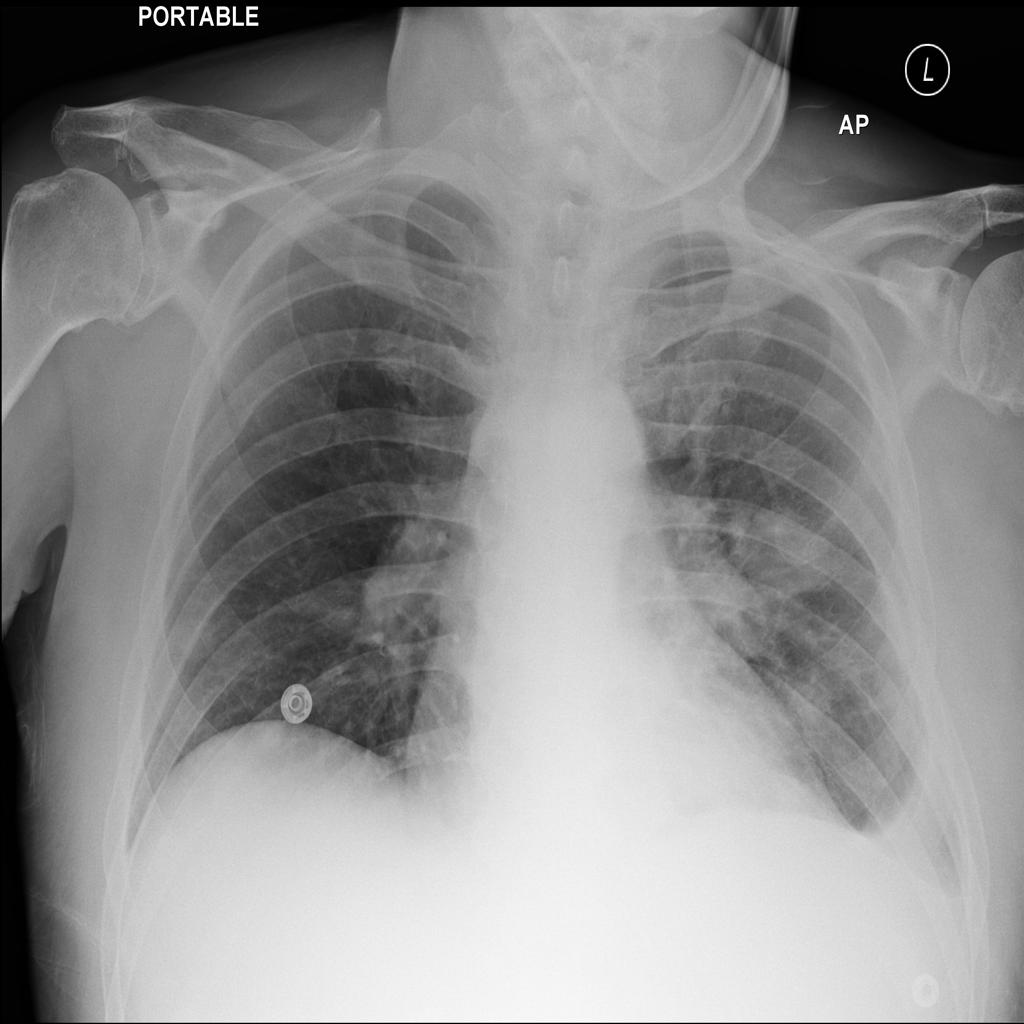nodule: (724, 483, 851, 615), (161, 597, 229, 676)
